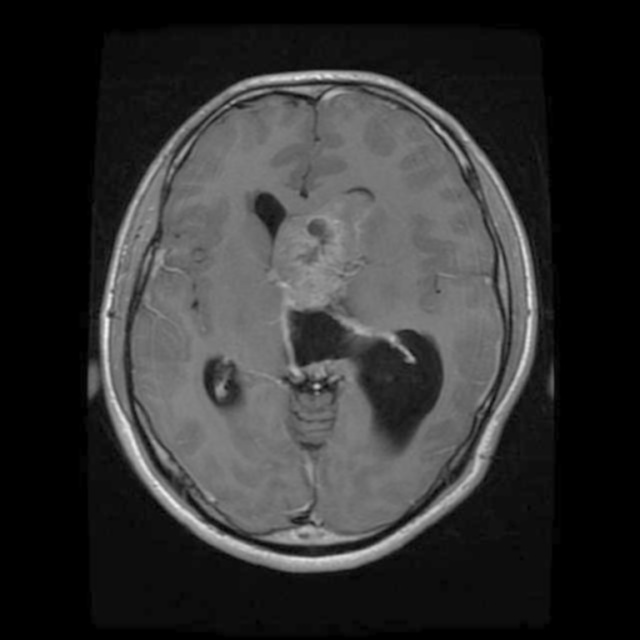pituitary tumor: (268, 206, 356, 310)
